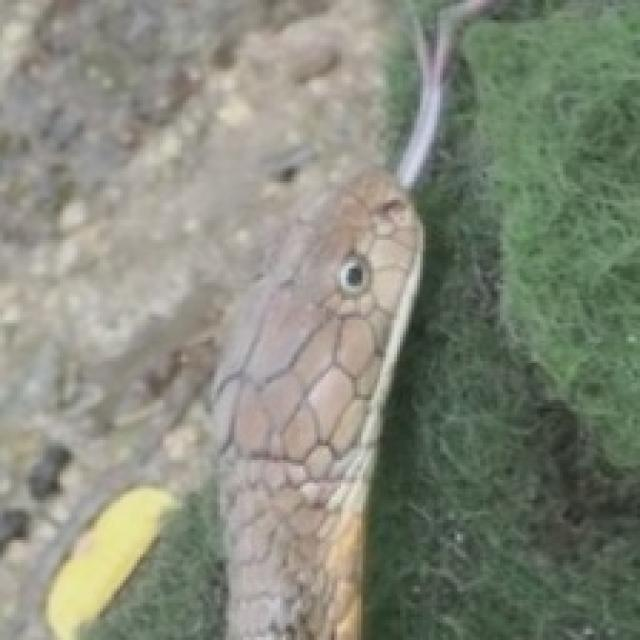king cobra: (211, 166, 420, 637), (397, 0, 474, 183)
